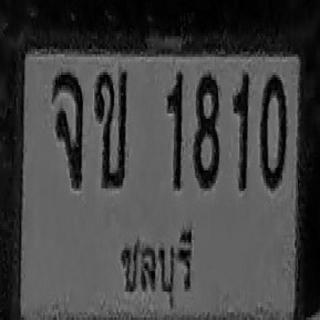A02: (95, 68, 127, 187)
A08: (52, 68, 83, 187)
N00: (260, 72, 286, 188)
N01: (232, 70, 249, 188), (167, 70, 183, 188)
N08: (194, 71, 219, 187)
P13: (113, 212, 199, 310)
